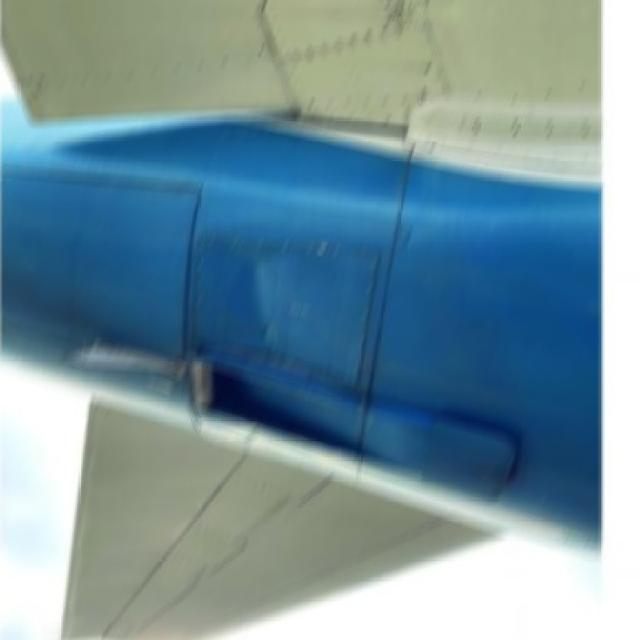dent: (208, 245, 291, 363)
